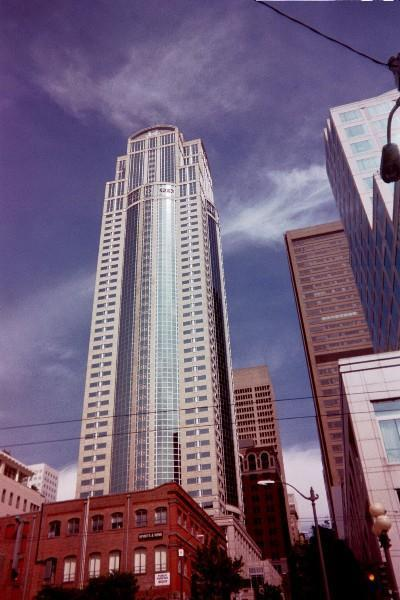building: (77, 117, 249, 534), (282, 226, 381, 600), (1, 479, 229, 600), (326, 78, 400, 357), (226, 362, 300, 600), (339, 345, 400, 600)
